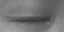LeftEyeFatigue: (1, 7, 54, 32)
